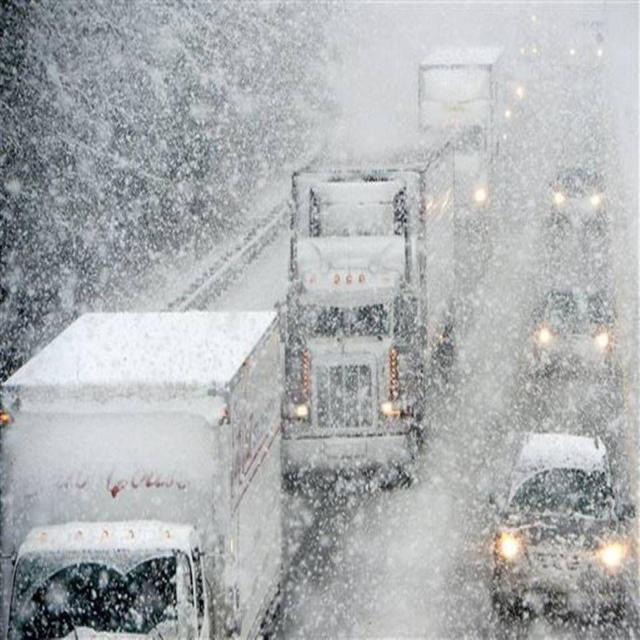Car: (484, 431, 636, 630), (530, 274, 621, 379), (547, 164, 610, 237)
Truck: (0, 308, 280, 640), (282, 127, 460, 483), (417, 44, 508, 232)
